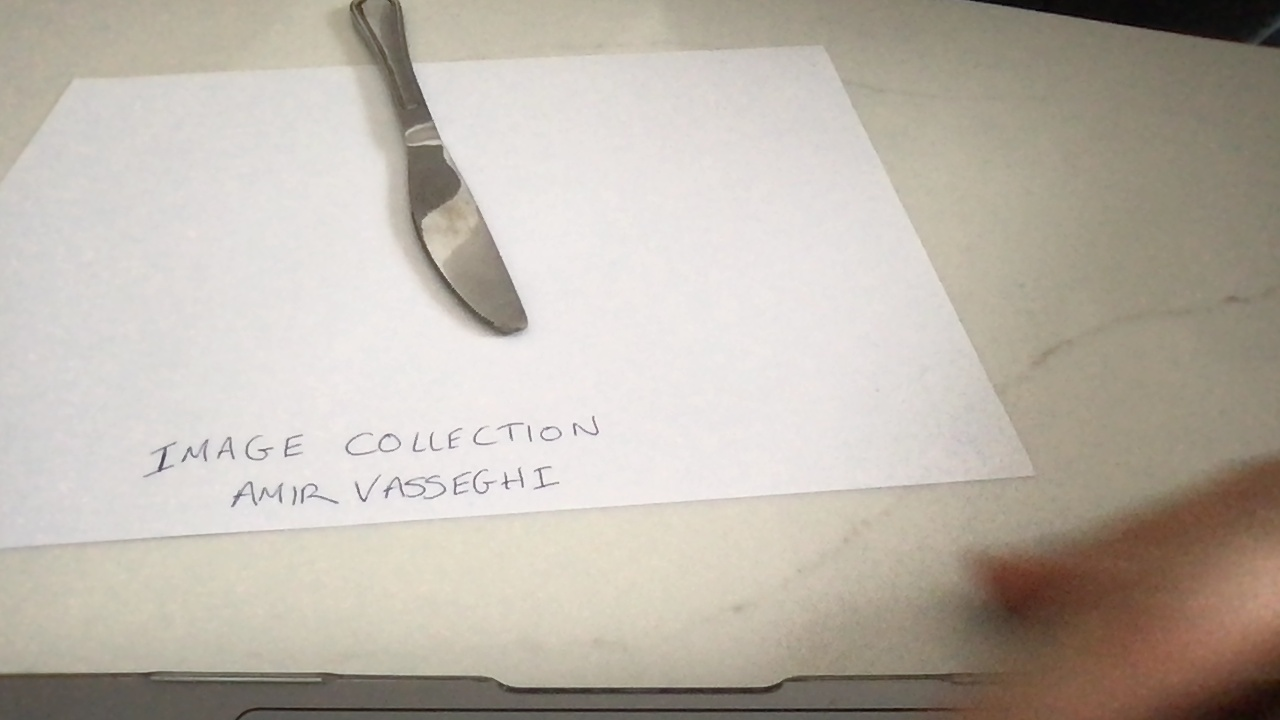knife: (344, 1, 531, 338)
